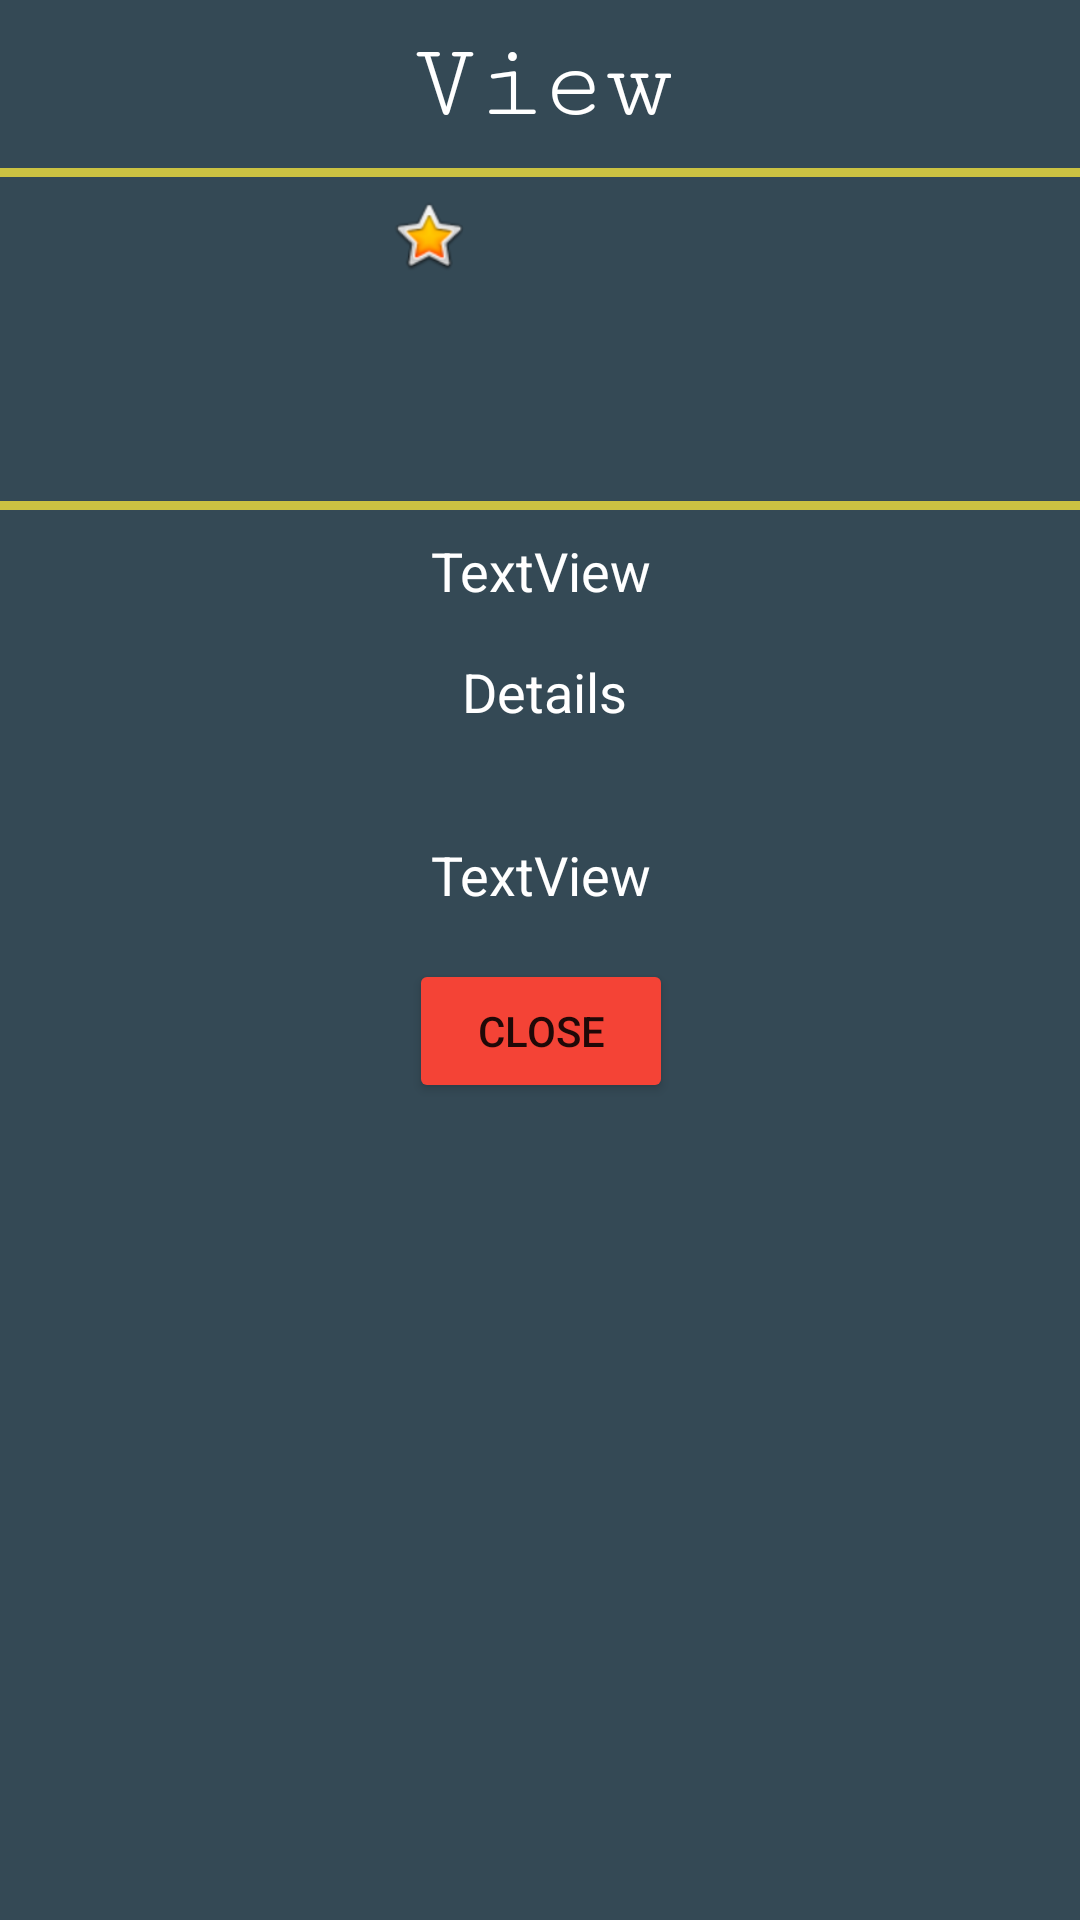

Locate icon controls on the screen. Image size 1080*1920, boxes as (x1, y1, x2, y2).
star on: (397, 205, 461, 268)
